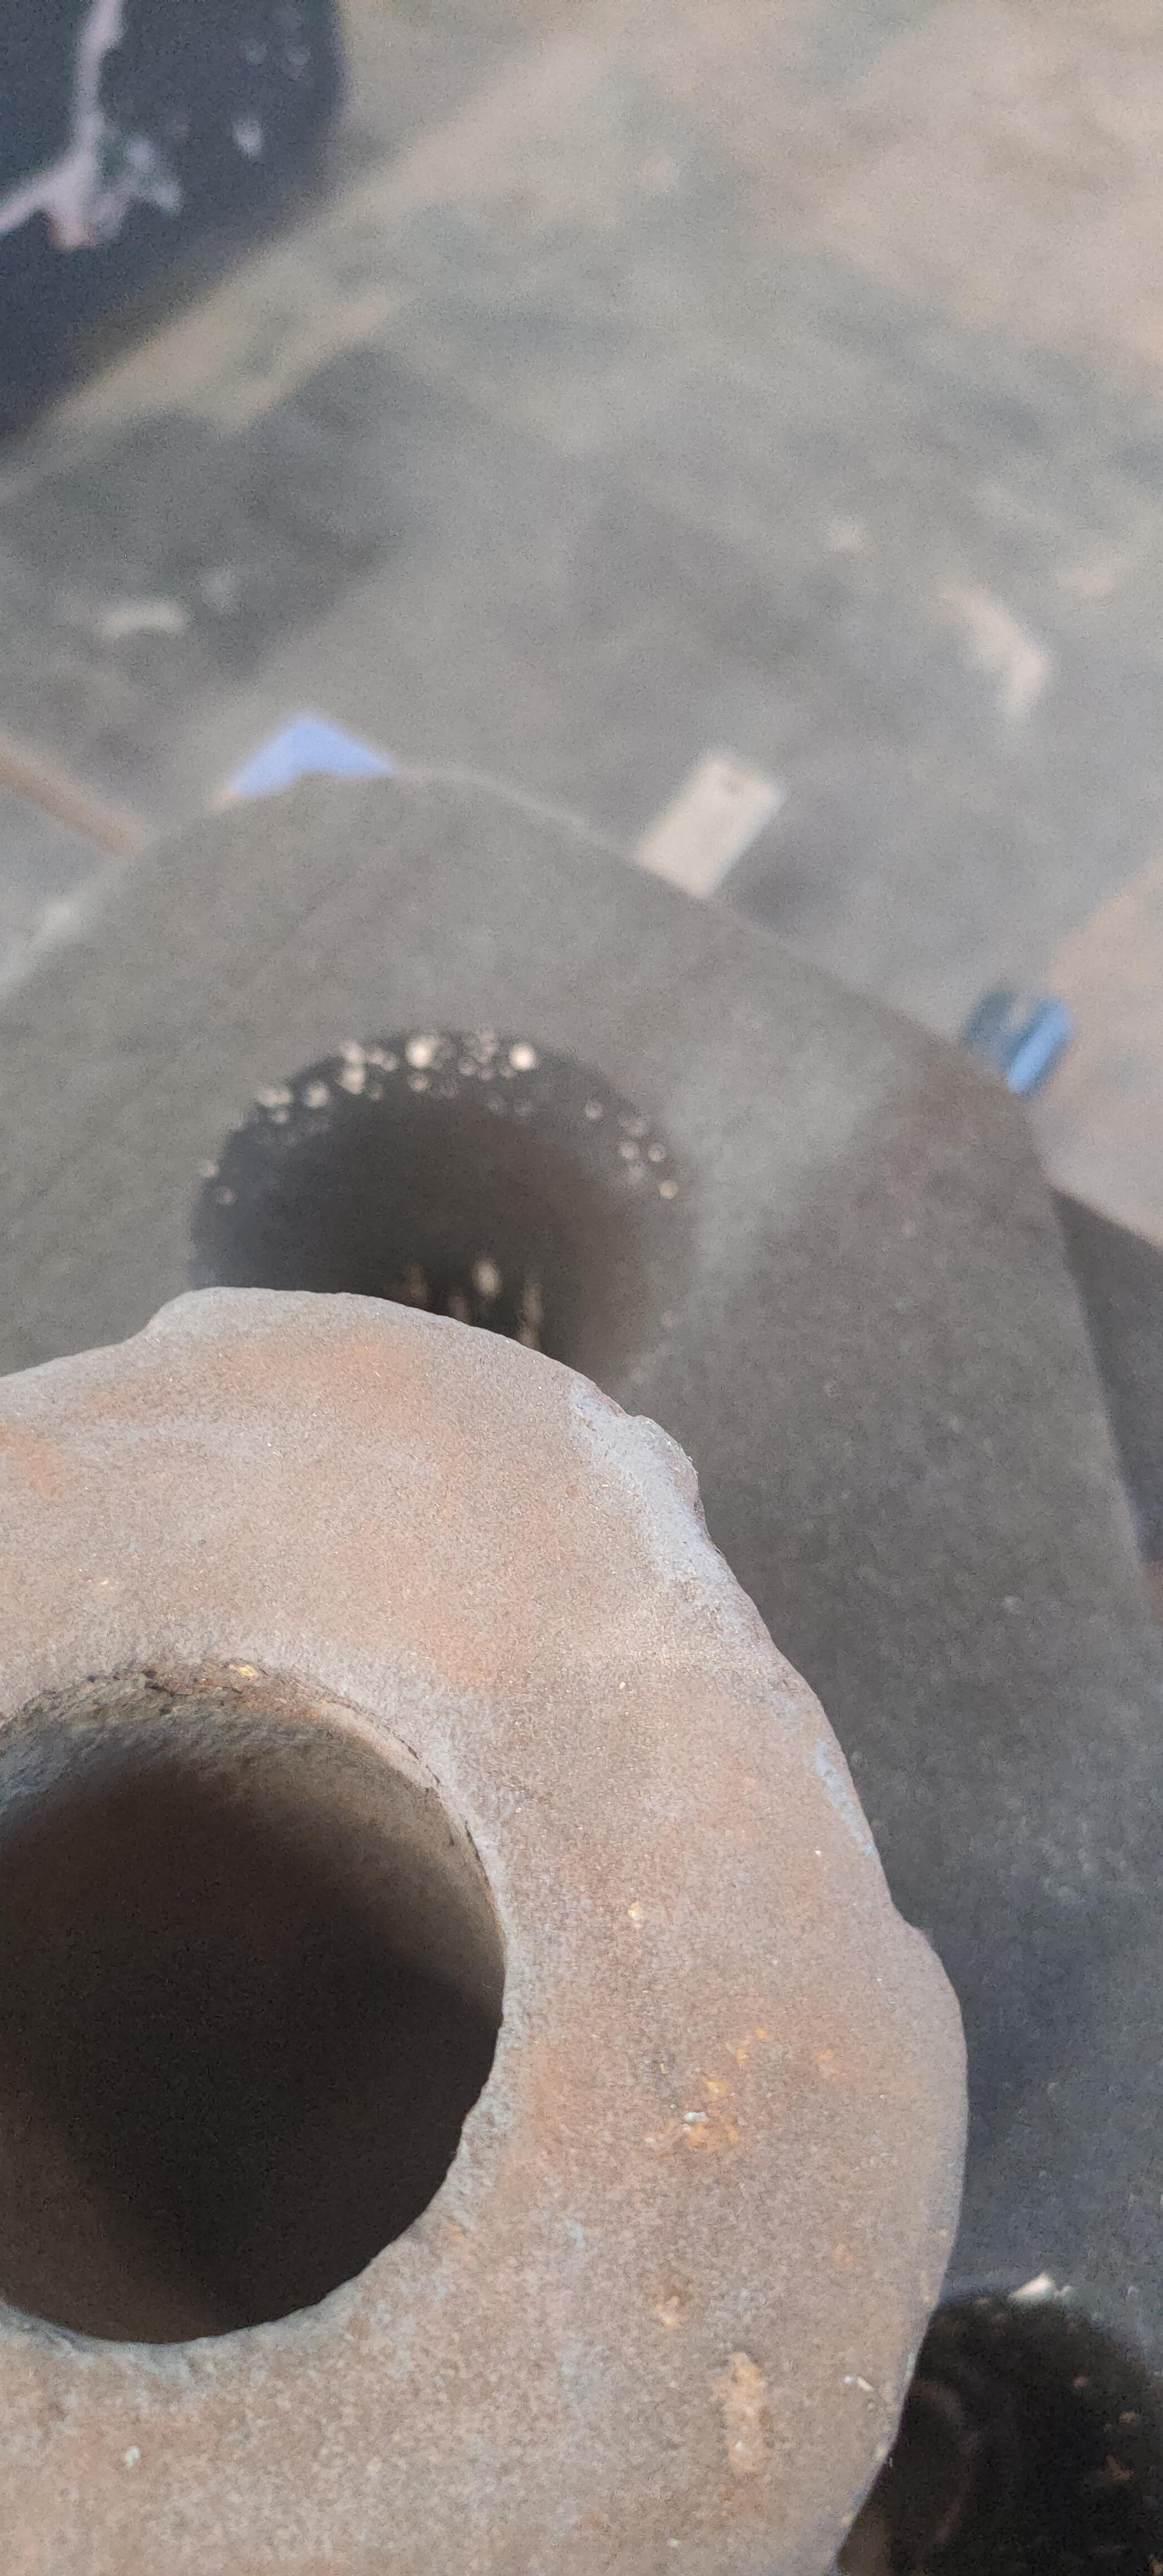pouring hole: (186, 1023, 692, 1444)
